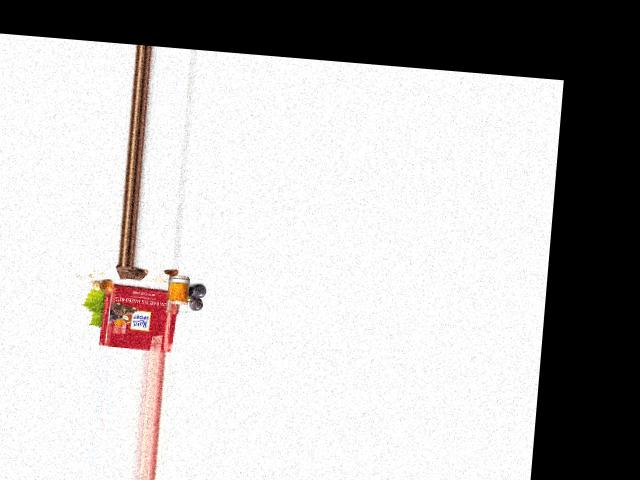chocolate: (96, 283, 177, 351)
